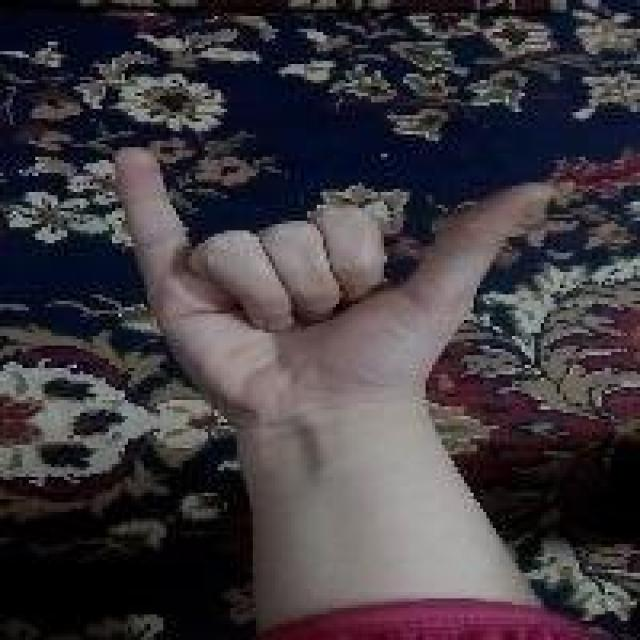Y: (91, 130, 565, 427)
